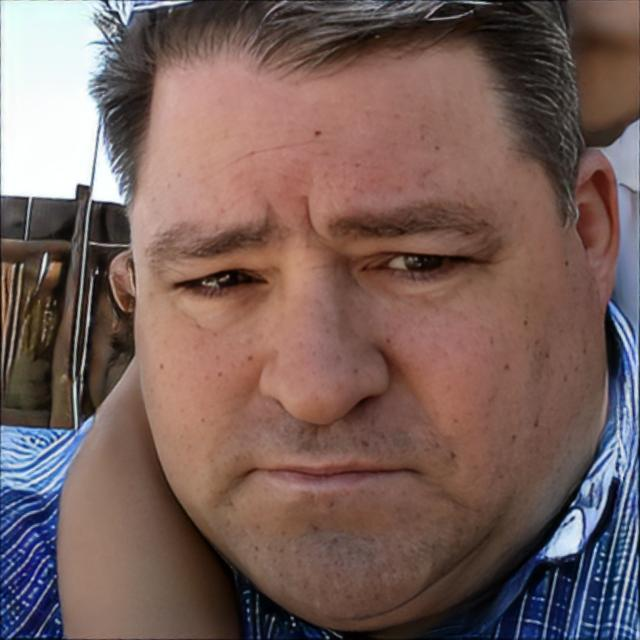sad: (131, 24, 568, 614)
